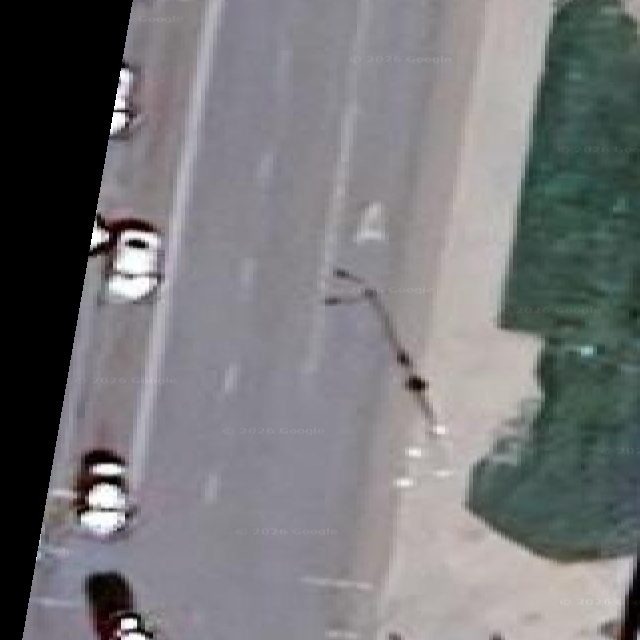car: (74, 449, 134, 537), (103, 220, 160, 301), (84, 572, 152, 639), (599, 548, 639, 639), (83, 572, 134, 639), (110, 60, 140, 136), (620, 548, 639, 639), (108, 612, 152, 639), (89, 212, 111, 256)
